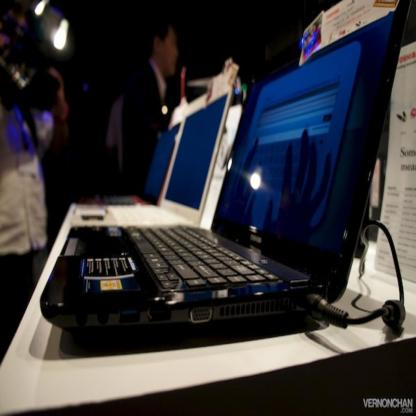board: (39, 0, 412, 341), (71, 69, 234, 228), (78, 121, 182, 207)
